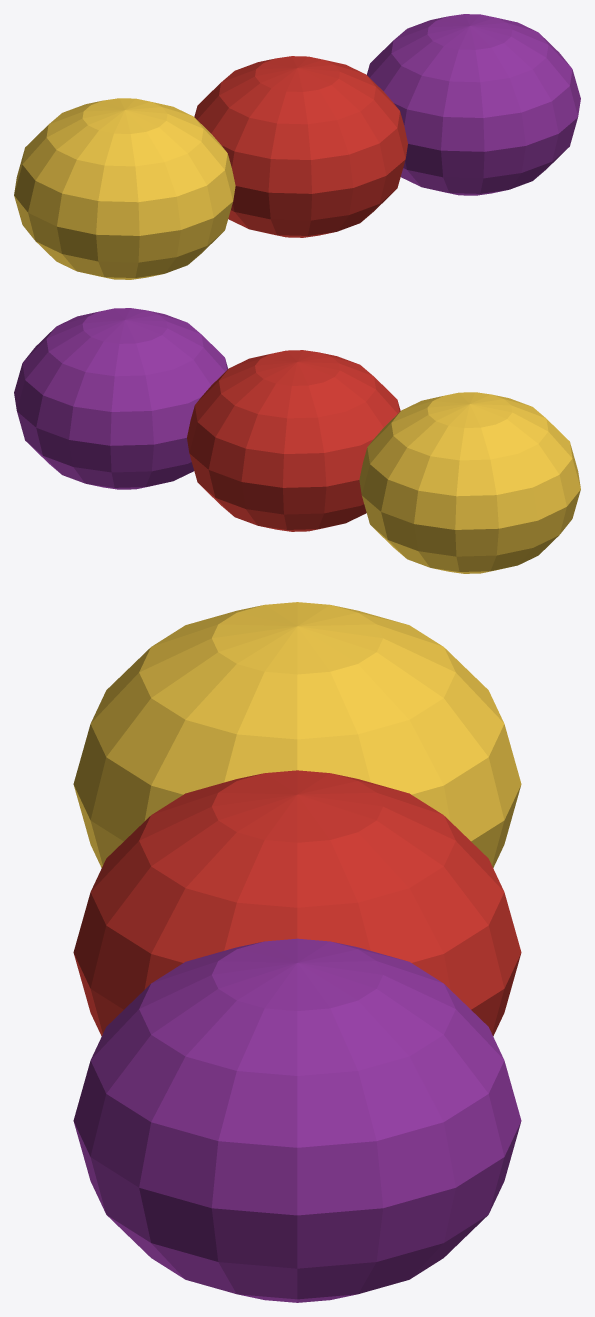
Rendered from Vegetation_006.glb.
3 views of the same model, one above another, from view 1: azimuth 30°, elevation 25°; view 2: azimuth 150°, elevation 25°; view 3: azimuth 270°, elevation 25° (orthographic). The views are drawn at different scales.
Visible parts, largest first — view 1: Vegetation_006; view 2: Vegetation_006; view 3: Vegetation_006.
Boxes of the visible parts, left/top/right/bottom form: Vegetation_006: left=14, top=14, right=580, bottom=279; Vegetation_006: left=14, top=308, right=580, bottom=573; Vegetation_006: left=73, top=602, right=521, bottom=1302.
Bounding box in the file's own units: 2.5 × 0.7 × 0.9.
